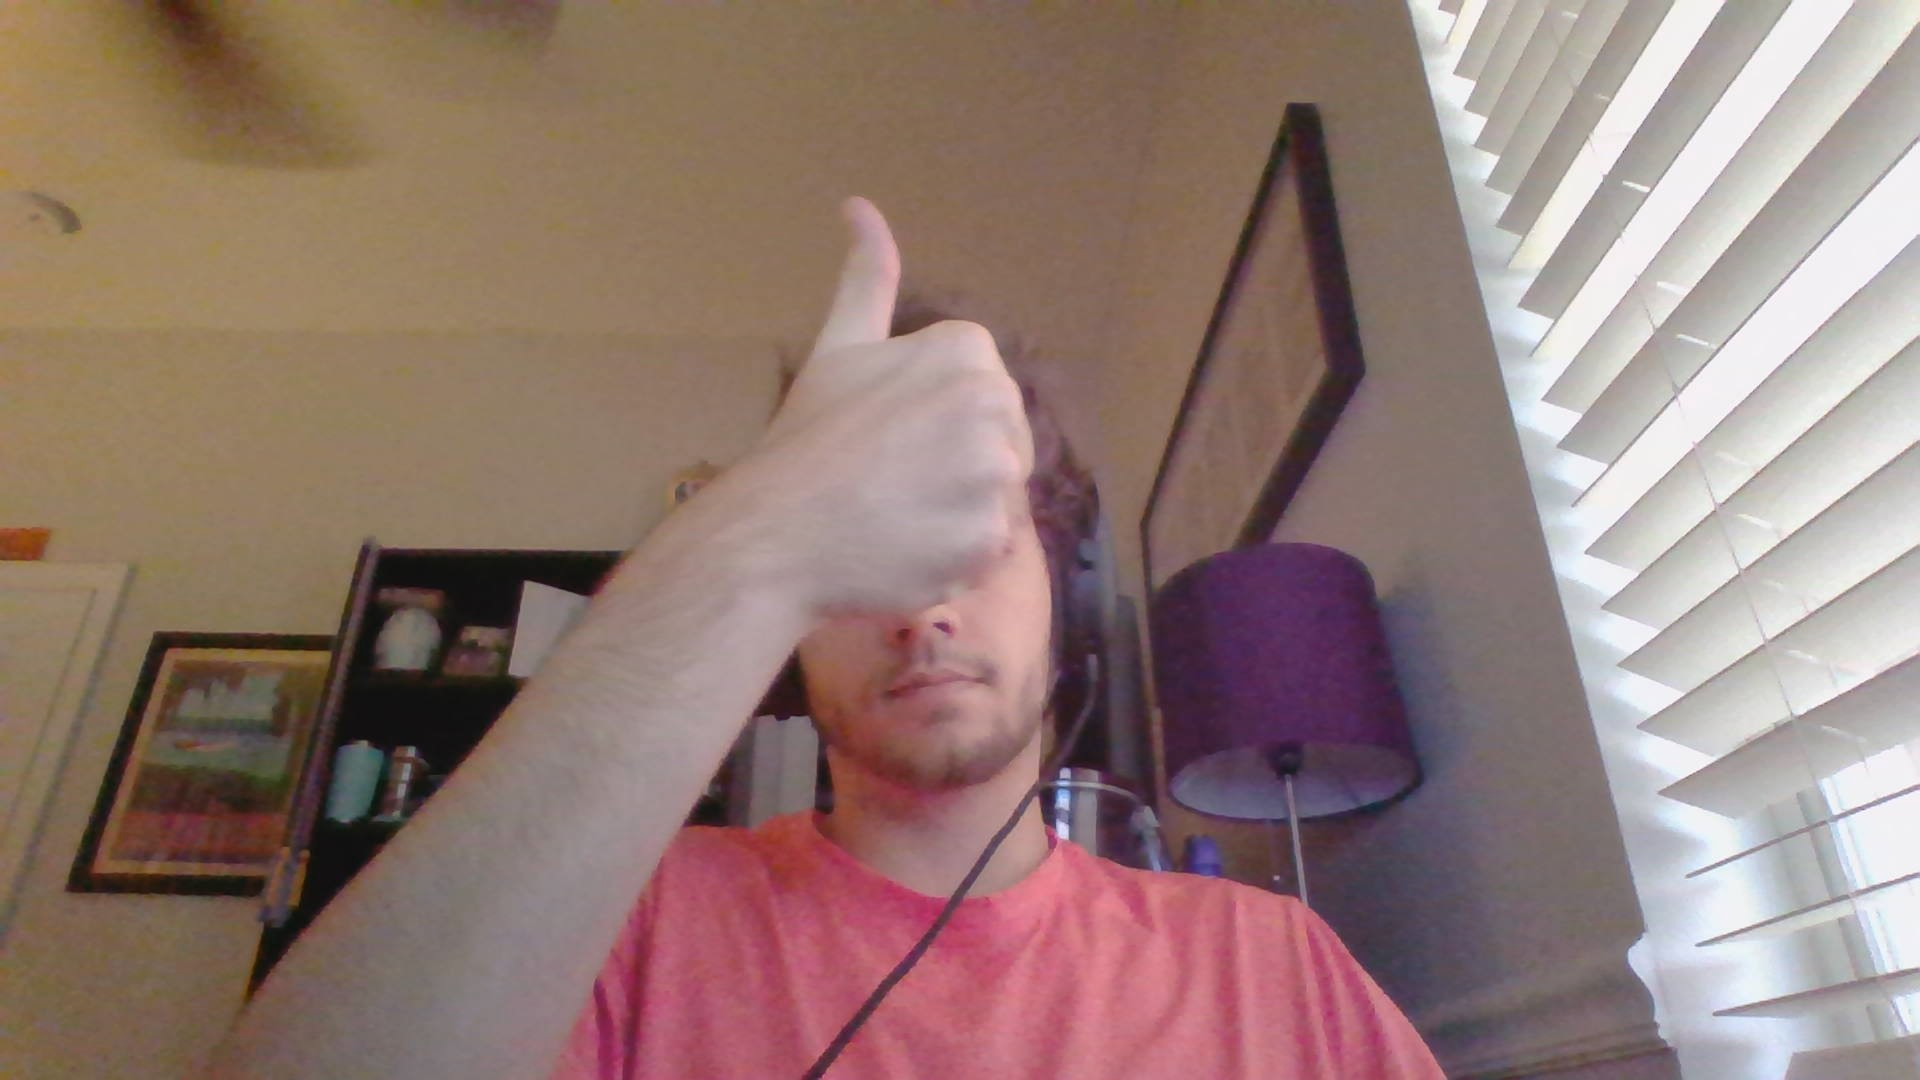Right Thumb Up: (723, 189, 1047, 628)
